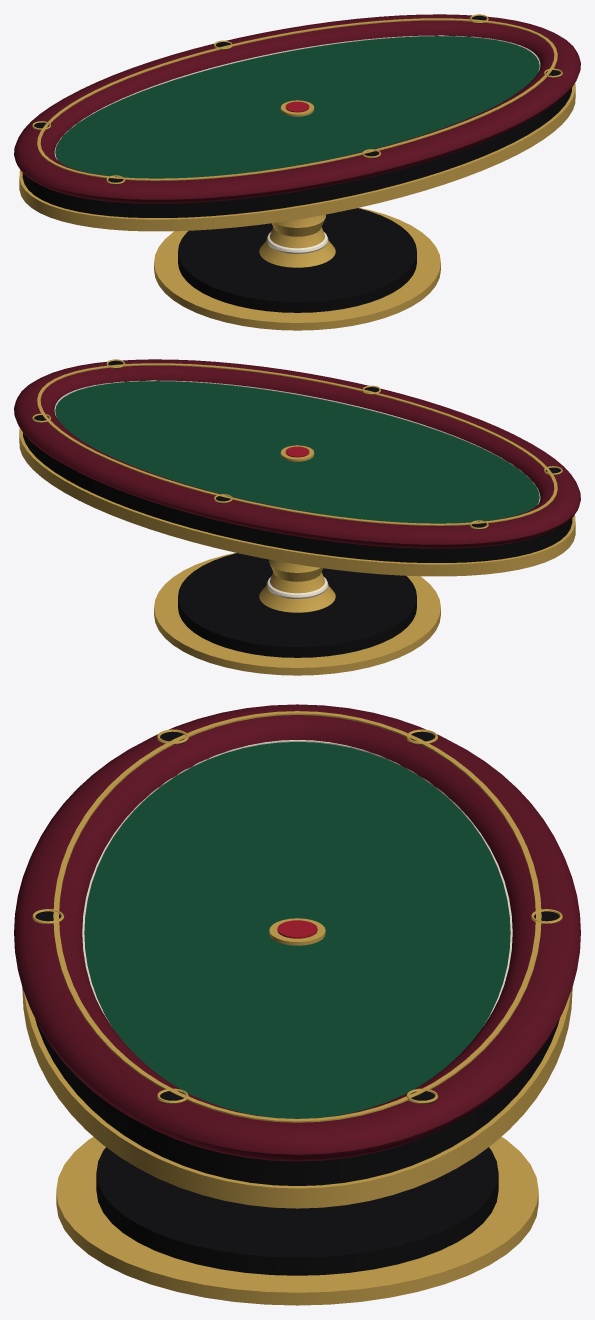
The model's file is poker_table.glb.
The picture shows the model from 3 angles, top to bottom: view 1: azimuth 30°, elevation 25°; view 2: azimuth 150°, elevation 25°; view 3: azimuth 270°, elevation 25°; orthographic projection. The views are drawn at different scales.
Visible parts, largest first — view 1: poker_table; view 2: poker_table; view 3: poker_table.
Boxes of the visible parts, x1,y1,x2,y2 form: poker_table: [14, 14, 580, 330]; poker_table: [14, 359, 580, 675]; poker_table: [14, 704, 580, 1305].
Size of the model in its own units: 2.61 by 0.7905 by 1.41.
